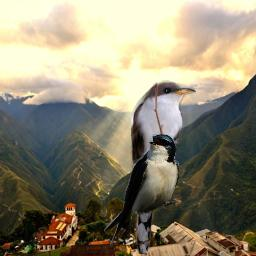Cuckoo: (129, 80, 196, 254)
Swallow: (104, 134, 179, 246)
